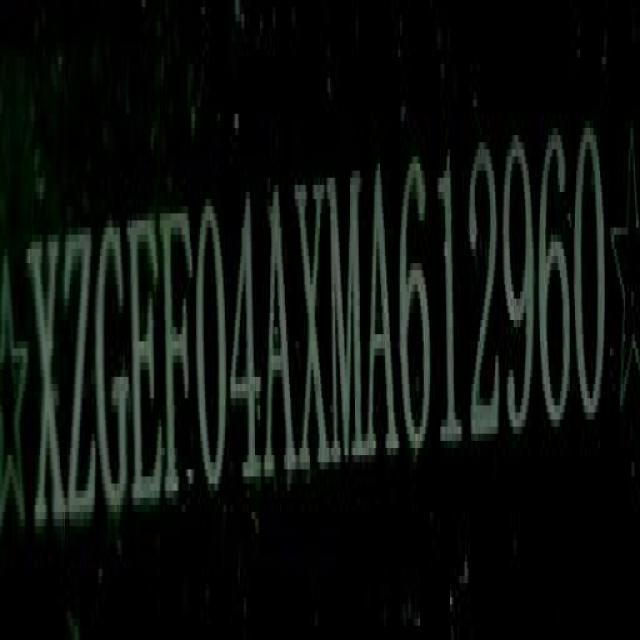0: (195, 199, 229, 501), (576, 121, 606, 428)
1: (439, 150, 461, 460)
2: (467, 139, 498, 453)
4: (230, 192, 262, 493)
6: (400, 152, 432, 464), (541, 124, 573, 432)
9: (504, 132, 535, 444)
A: (368, 162, 396, 468), (266, 176, 293, 488)
E: (127, 205, 162, 516)
F: (161, 205, 195, 527)
G: (97, 213, 130, 523)
M: (328, 161, 364, 476)
X: (29, 218, 66, 530), (296, 170, 329, 485)
Z: (64, 226, 96, 515)
